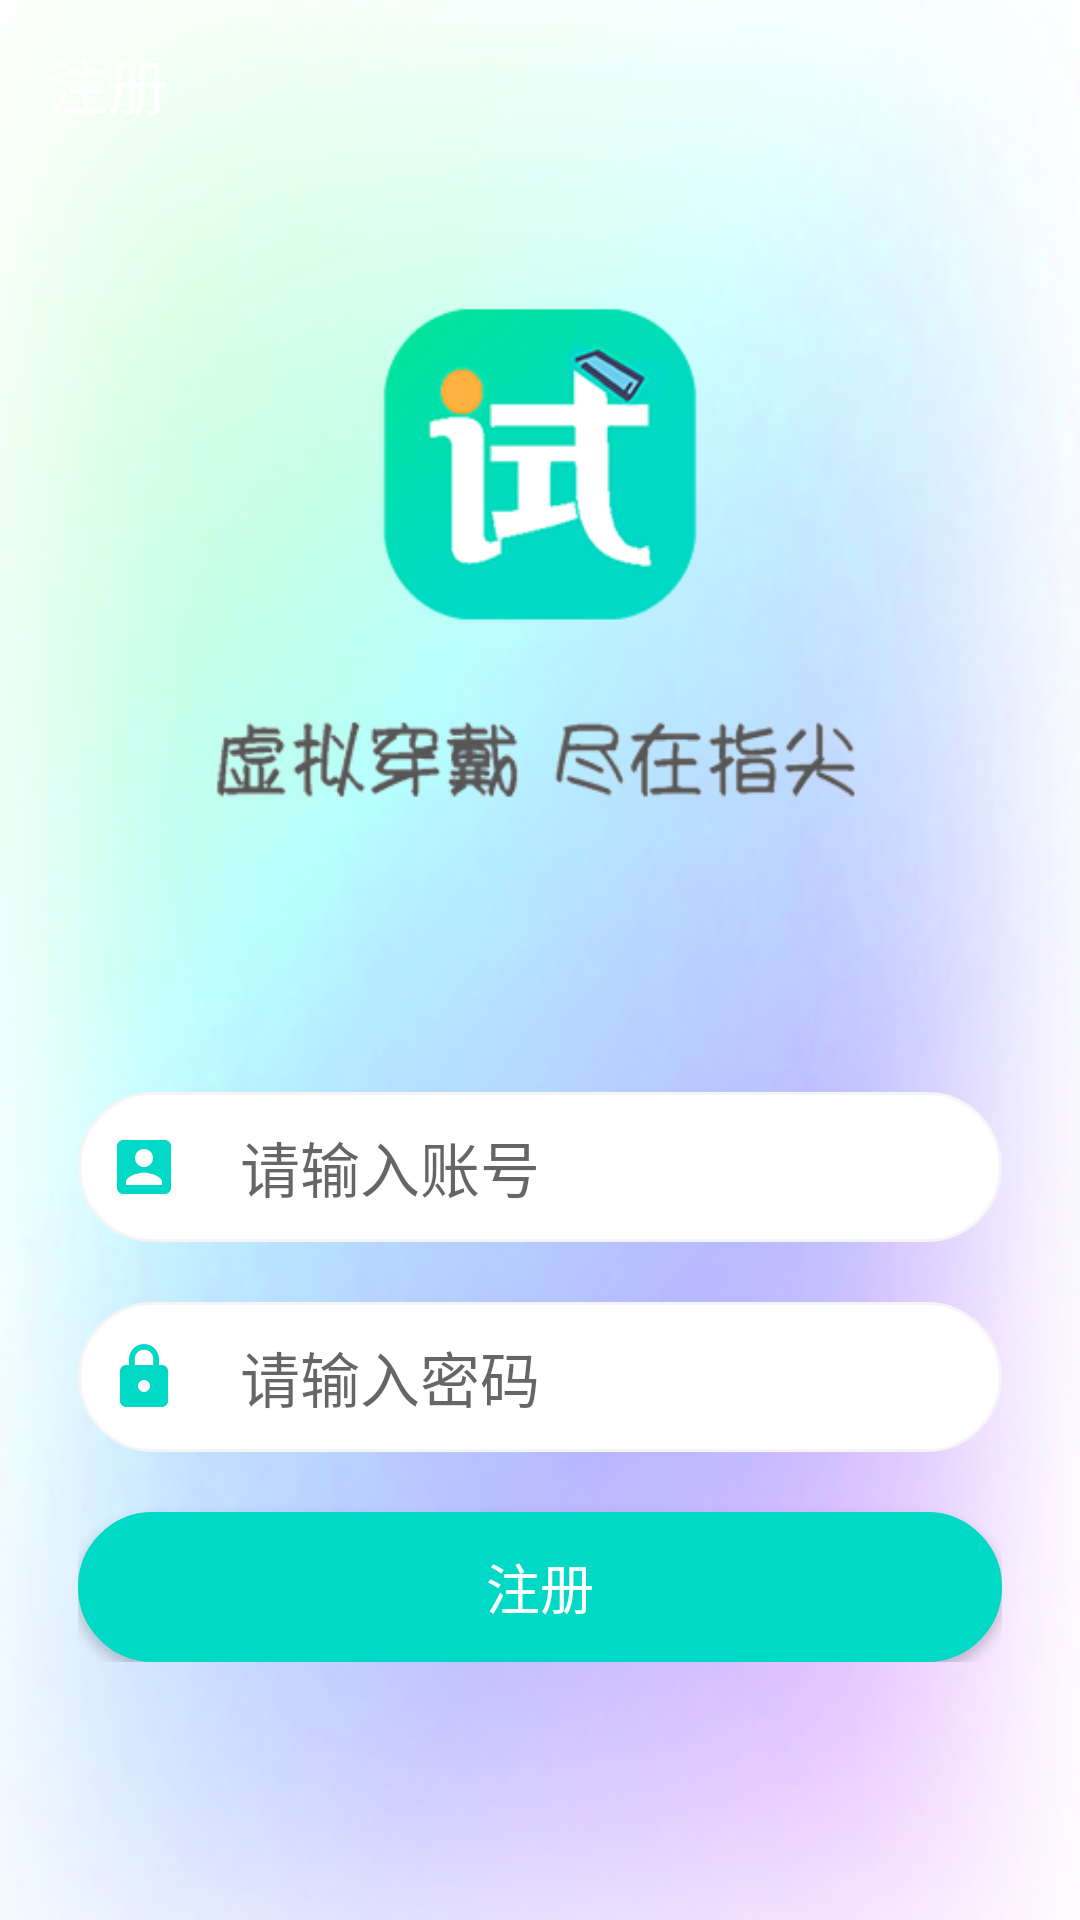

Icon click points for this 1080px×1920px phone screenshot, format [x,y]:
account box: [144,1167]
